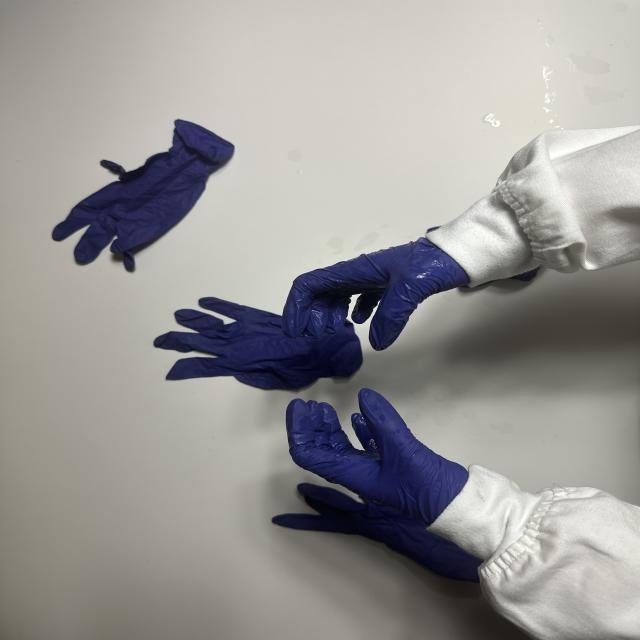gloves_contaminated: (286, 388, 468, 526), (283, 238, 469, 350)
